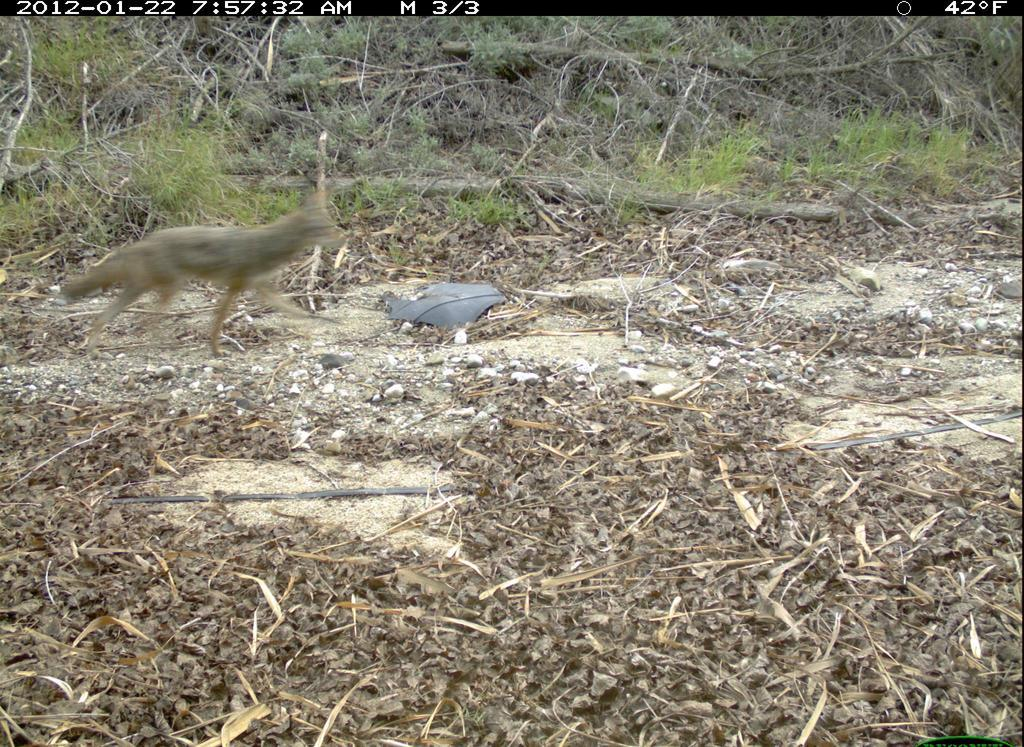coyote: (54, 177, 360, 365)
